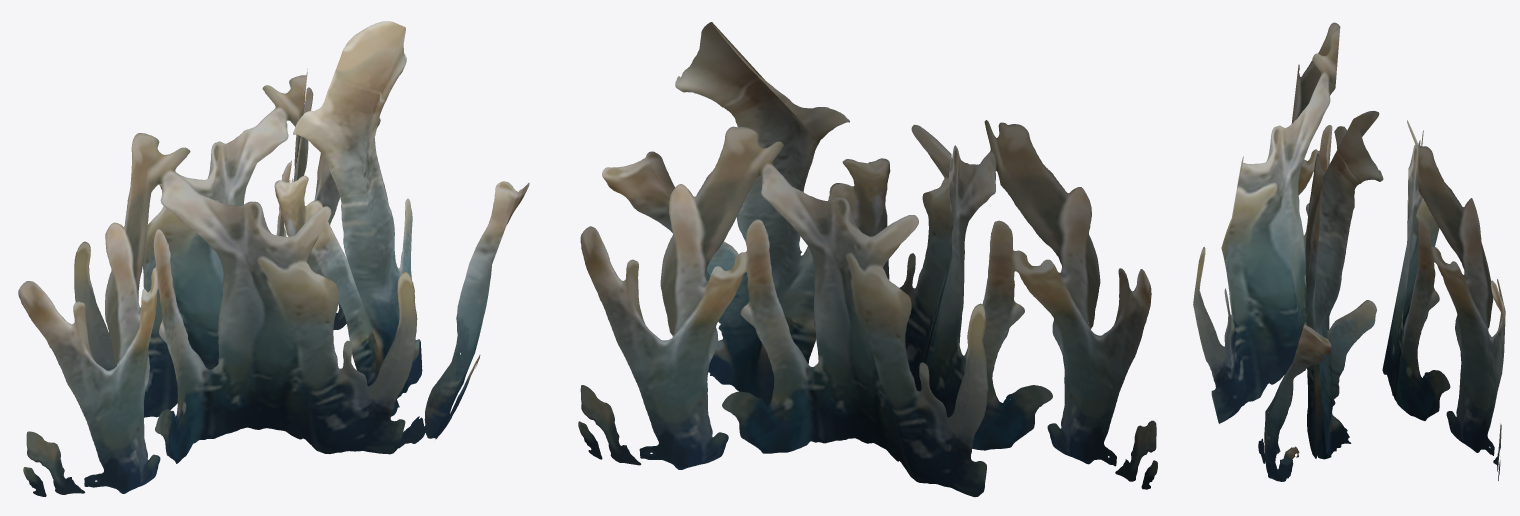
File: mossXenoforestBoneHP.fbx
3 views of the same model, side by side, from view 1: azimuth 30°, elevation 25°; view 2: azimuth 150°, elevation 25°; view 3: azimuth 270°, elevation 25° (orthographic). The views are drawn at different scales.
Parts seen in each view (by area): view 1: mossXenoforestBoneHP; view 2: mossXenoforestBoneHP; view 3: mossXenoforestBoneHP.
Part boxes in pixels (bbox=[...]): mossXenoforestBoneHP: bbox=[18, 21, 529, 496]; mossXenoforestBoneHP: bbox=[578, 22, 1157, 497]; mossXenoforestBoneHP: bbox=[1193, 22, 1505, 481].
Bounding box in the file's own units: 0.7936 × 0.5472 × 0.419.
